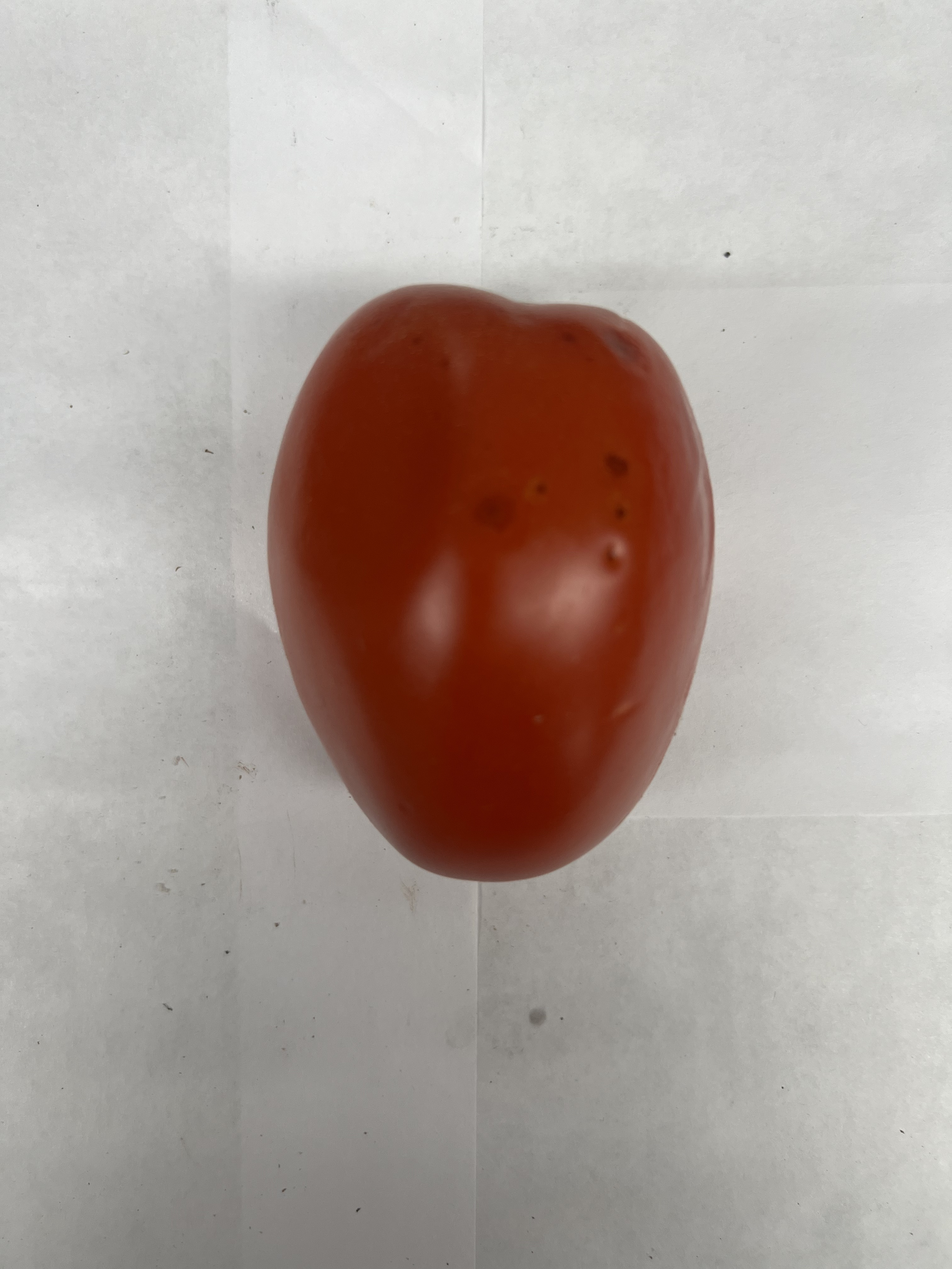produce: (260, 279, 723, 886)
